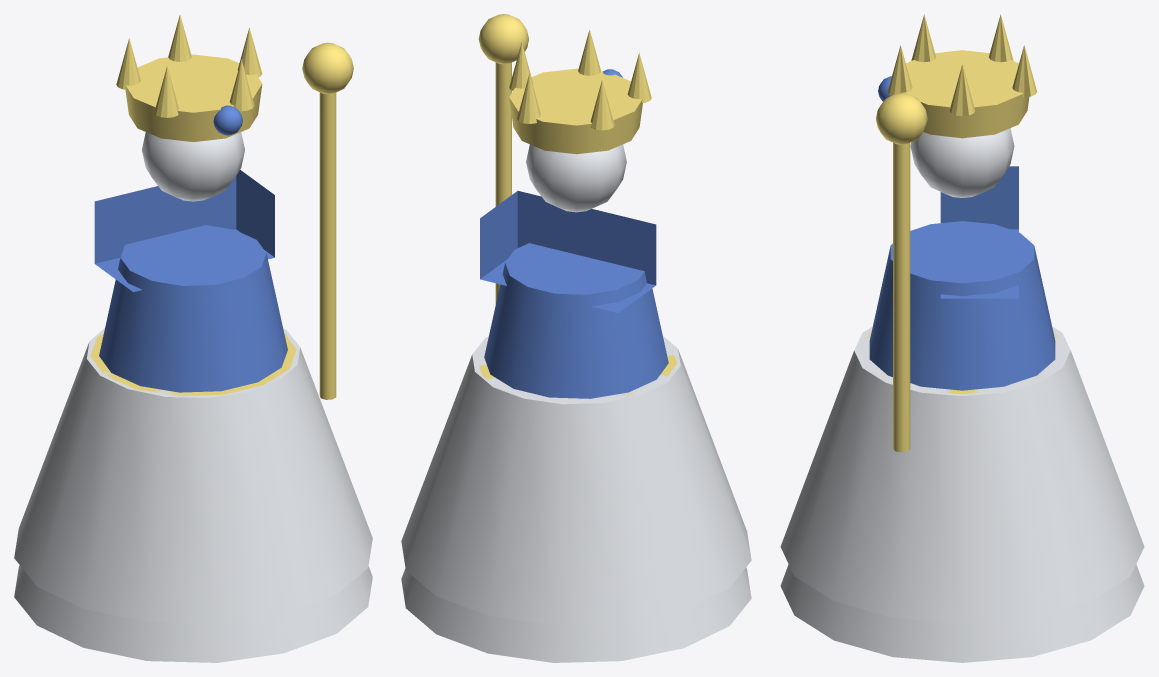
The model's file is queen.glb.
3 views of the same model, side by side, from view 1: azimuth 30°, elevation 25°; view 2: azimuth 150°, elevation 25°; view 3: azimuth 270°, elevation 25° (orthographic). The views are drawn at different scales.
Visible parts, largest first — view 1: queen; view 2: queen; view 3: queen.
Boxes of the visible parts, <box> form: queen: <box>14,14,372,662</box>; queen: <box>401,14,751,662</box>; queen: <box>780,14,1144,662</box>.
Size of the model in its own units: 0.84 by 1.4 by 0.84.
